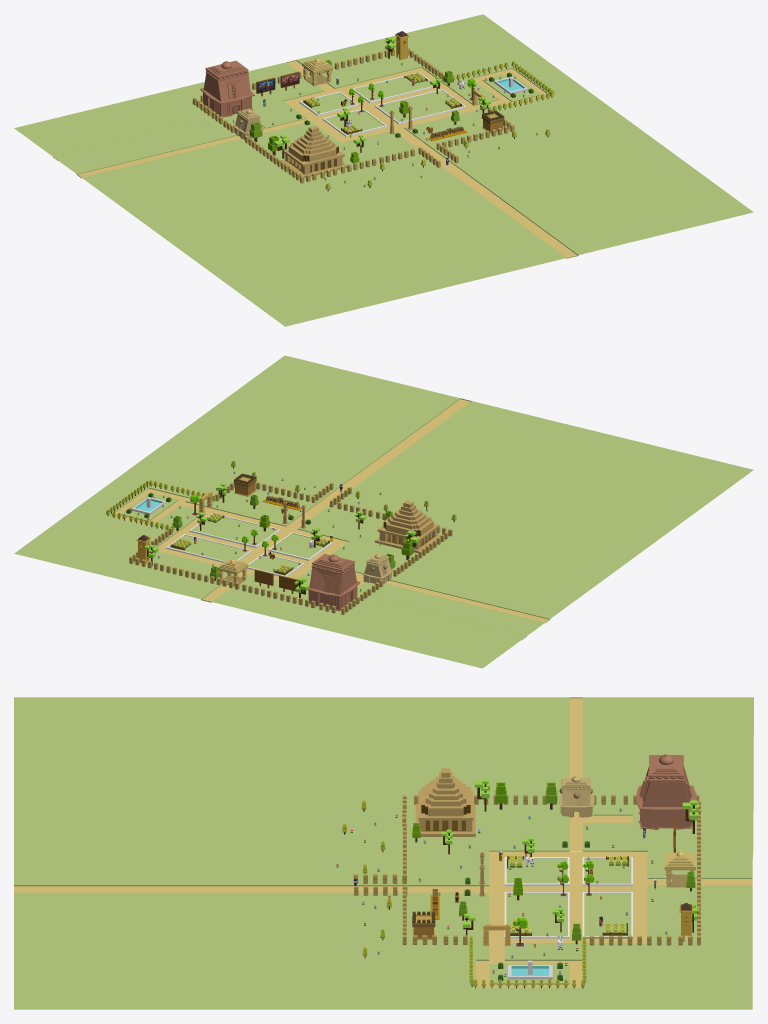
Rendered from aaryavartaGame1.glb.
The picture shows the model from 3 angles, top to bottom: view 1: azimuth 30°, elevation 25°; view 2: azimuth 150°, elevation 25°; view 3: azimuth 270°, elevation 25°; orthographic projection. The views are drawn at different scales.
Parts seen in each view (by area): view 1: ground, structuretemple, sourcesLink, structure, structuretemple.001; view 2: ground, structuretemple, sourcesLink, structuretemple.001, structure; view 3: ground, structuretemple, sourcesLink, structuretemple.001, structure, quizShrine, structurebunker.
Part boxes in pixels (x1,y1,x2,y2): ground: (14,14,753,326); structuretemple: (200,60,254,117); sourcesLink: (281,126,347,178); structure: (302,58,332,85); structuretemple.001: (233,108,263,139); ground: (14,355,753,668); structuretemple: (307,554,360,611); sourcesLink: (375,500,440,553); structuretemple.001: (362,553,393,584); structure: (217,559,248,586); ground: (14,697,753,1009); structuretemple: (636,754,696,829); sourcesLink: (415,768,475,836); structuretemple.001: (559,776,594,817); structure: (664,851,695,887); quizShrine: (508,960,552,979); structurebunker: (412,911,435,939).
Size of what is drawn, in the model's own units: 3211 by 312 by 3218.
404 materials, 2 textured.
